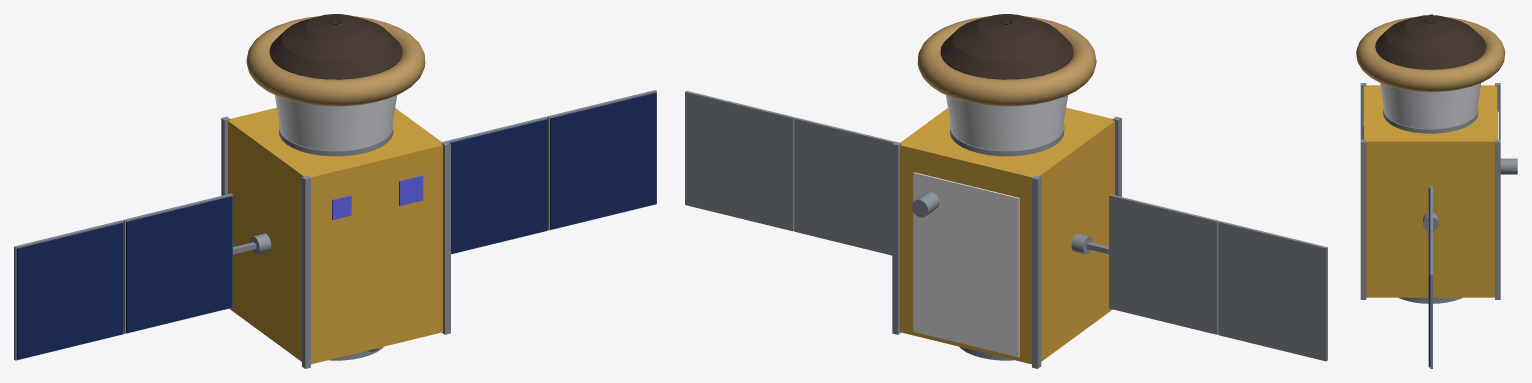
Rendered from SP-WORM.glb.
3 views of the same model, side by side, from view 1: azimuth 30°, elevation 25°; view 2: azimuth 150°, elevation 25°; view 3: azimuth 270°, elevation 25° (orthographic). The views are drawn at different scales.
Parts seen in each view (by area): view 1: service_module_structure, solar_panel_-X2, solar_panel_+X2, solar_panel_-X1, solar_panel_+X1, nose, heat_shield_packed, capsule_backshell, corner_rail_-X-Y, corner_rail_+X-Y, panel_frame_+X2, panel_frame_-X2 (+4 smaller); view 2: service_module_structure, radiator_+Y_face, panel_frame_-X2, panel_frame_+X2, panel_frame_-X1, panel_frame_+X1, nose, heat_shield_packed, capsule_backshell, corner_rail_-X+Y, corner_rail_+X+Y, separation_interface (+1 smaller); view 3: service_module_structure, nose, heat_shield_packed, capsule_backshell, corner_rail_+X-Y, corner_rail_+X+Y, separation_interface, panel_frame_+X2, solar_panel_+X2, launch_separation_ring, star_tracker, corner_rail_-X-Y (+2 smaller).
Boxes of the visible parts, <box> form: service_module_structure: <box>228,107,442,364</box>; solar_panel_-X2: <box>16,223,123,359</box>; solar_panel_+X2: <box>550,92,656,229</box>; solar_panel_-X1: <box>126,196,232,332</box>; solar_panel_+X1: <box>450,119,547,253</box>; nose: <box>269,14,402,79</box>; heat_shield_packed: <box>246,16,425,106</box>; capsule_backshell: <box>275,95,396,150</box>; corner_rail_-X-Y: <box>302,175,310,368</box>; corner_rail_+X-Y: <box>441,141,450,334</box>; panel_frame_+X2: <box>547,90,656,230</box>; panel_frame_-X2: <box>14,220,123,360</box>; service_module_structure: <box>900,107,1114,364</box>; radiator_+Y_face: <box>913,172,1019,357</box>; panel_frame_-X2: <box>1218,221,1327,361</box>; panel_frame_+X2: <box>685,91,794,231</box>; panel_frame_-X1: <box>1109,194,1218,334</box>; panel_frame_+X1: <box>794,117,894,255</box>; nose: <box>940,14,1073,79</box>; heat_shield_packed: <box>917,16,1096,106</box>; capsule_backshell: <box>946,95,1067,150</box>; corner_rail_-X+Y: <box>1032,175,1041,368</box>; corner_rail_+X+Y: <box>892,141,901,334</box>; separation_interface: <box>950,124,1064,156</box>; service_module_structure: <box>1364,85,1497,297</box>; nose: <box>1375,15,1486,69</box>; heat_shield_packed: <box>1356,17,1505,92</box>; capsule_backshell: <box>1380,83,1480,129</box>; corner_rail_+X-Y: <box>1360,139,1366,299</box>; corner_rail_+X+Y: <box>1495,139,1500,299</box>; separation_interface: <box>1383,107,1478,133</box>; panel_frame_+X2: <box>1430,231,1432,368</box>; solar_panel_+X2: <box>1428,232,1430,367</box>; launch_separation_ring: <box>1399,297,1462,303</box>; star_tracker: <box>1500,158,1517,174</box>; corner_rail_-X-Y: <box>1360,83,1366,139</box>.
Size of the model in its own units: 2.73 by 1.29 by 0.716.
